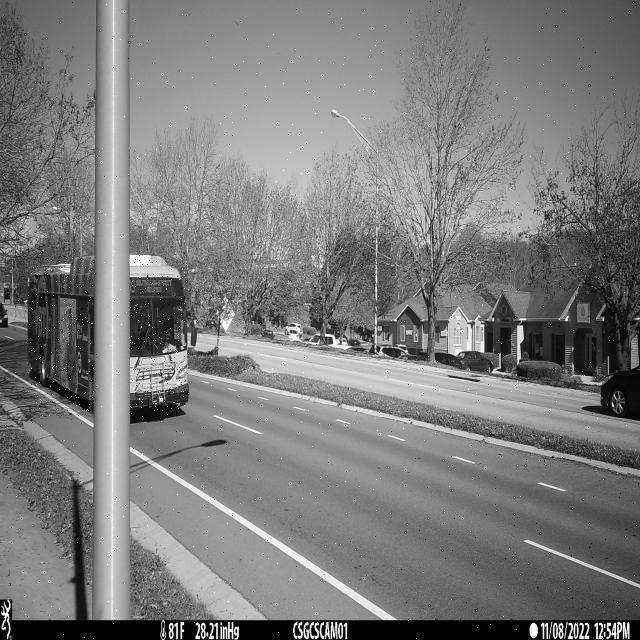Bus: (28, 256, 95, 412), (130, 255, 189, 411)
